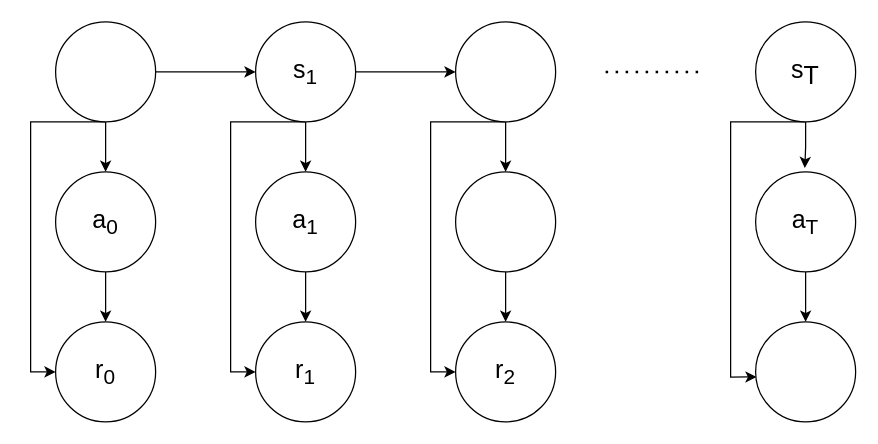
This 878x444 diagram has some shape labels left out. Here are the shapes that lost their labels. From the top down, the centre of each, then its label:
At point 105,71: "s 0".
At point 505,71: "s 2".
At point 505,221: "a 2".
At point 805,371: "r T".
